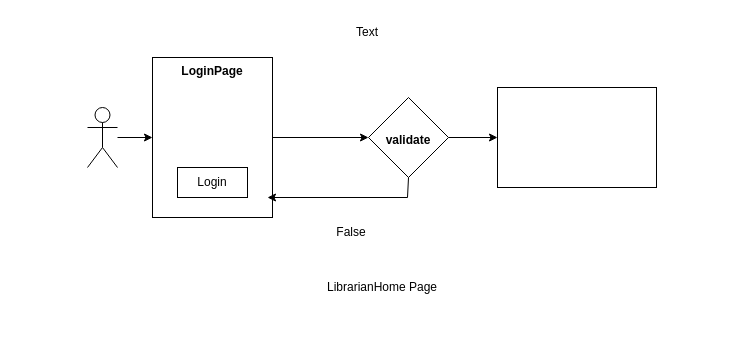
The diagram is 744 pixels wide and 344 high, and some of its shapes have lost their labels. Here are the shapes that lost their labels. From the top down, the centre of each, then its label:
At [102,137]: "Librarian".
At [576,137]: "View Users View Book Add Book Logout".
